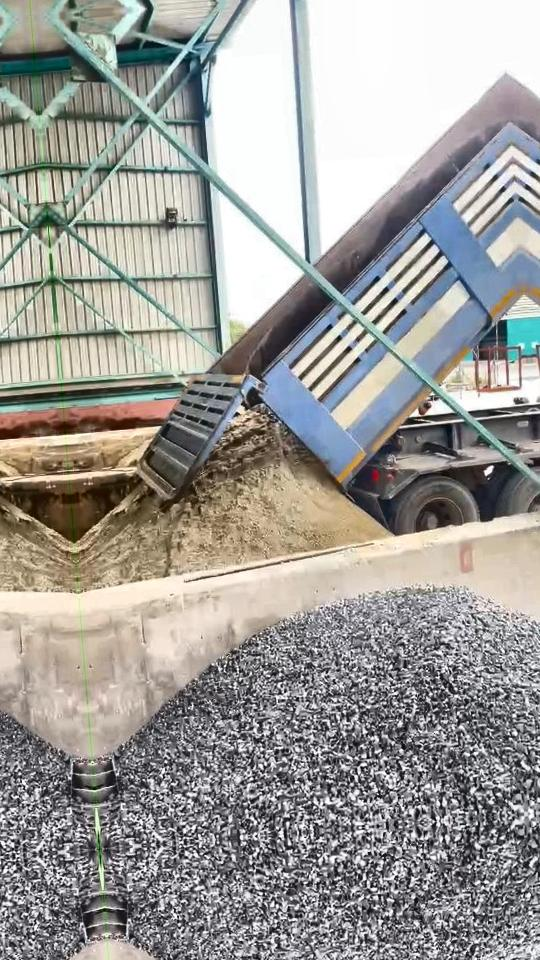gravel: (101, 588, 540, 848)
sand: (76, 406, 386, 589), (119, 440, 150, 468)
